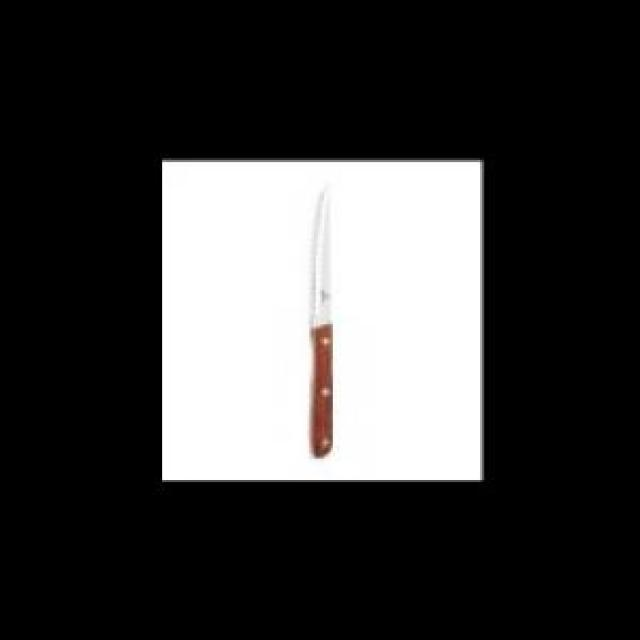knife: (301, 170, 344, 460)
